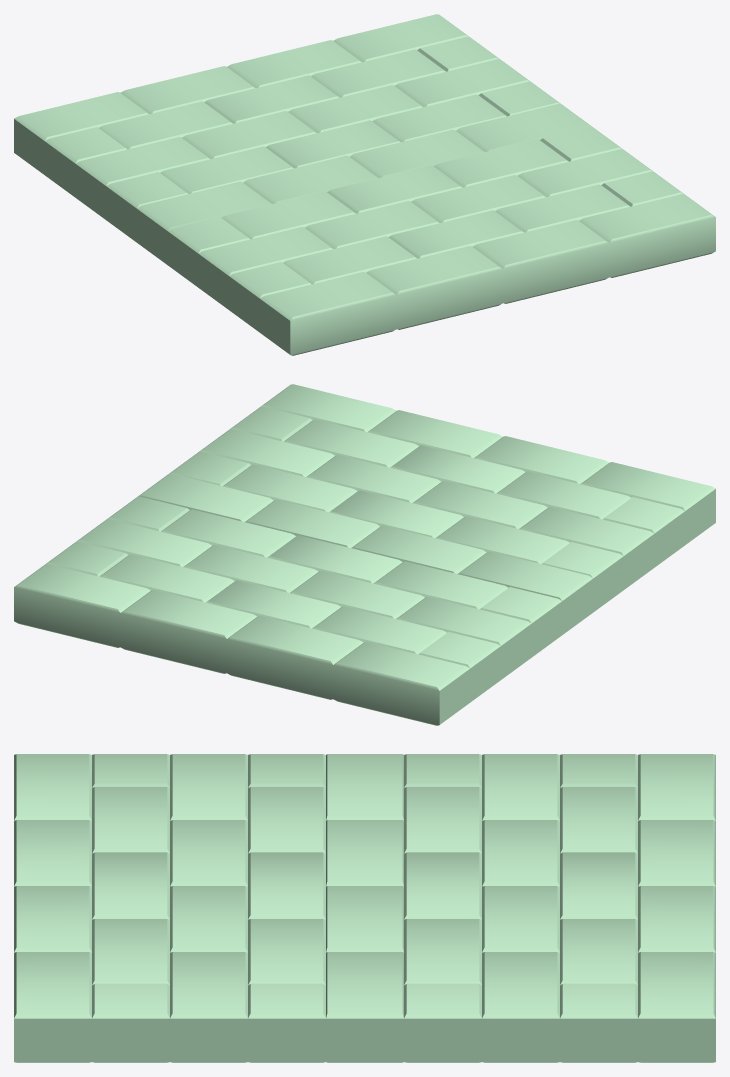
The picture shows the model from 3 angles, top to bottom: view 1: azimuth 30°, elevation 25°; view 2: azimuth 150°, elevation 25°; view 3: azimuth 270°, elevation 25°; orthographic projection. The views are drawn at different scales.
Parts seen in each view (by area): view 1: Object_4; view 2: Object_4; view 3: Object_4.
Part boxes in pixels (x1,y1,x2,y2): Object_4: [14, 14, 715, 355]; Object_4: [14, 384, 715, 725]; Object_4: [14, 754, 715, 1062].
Size of the model in its own units: 0.8889 by 0.0776 by 1.
